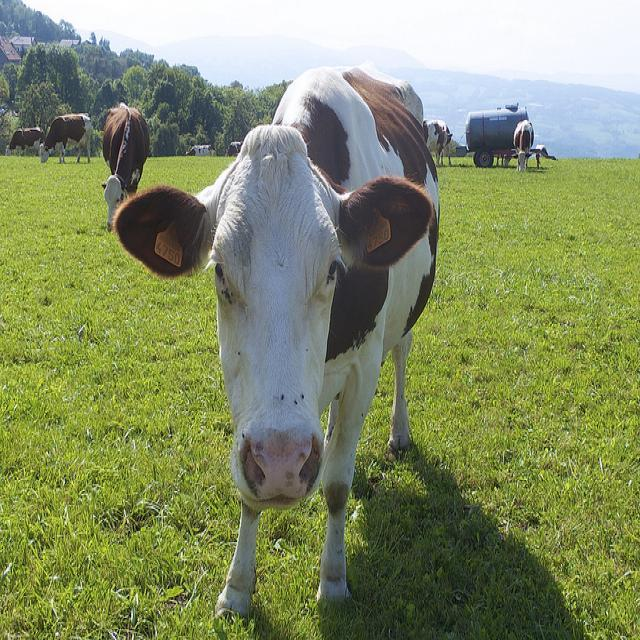cow: (106, 57, 443, 622), (100, 101, 148, 208), (37, 113, 91, 161), (3, 125, 45, 156), (509, 120, 531, 178), (429, 119, 452, 164), (184, 142, 211, 156)
